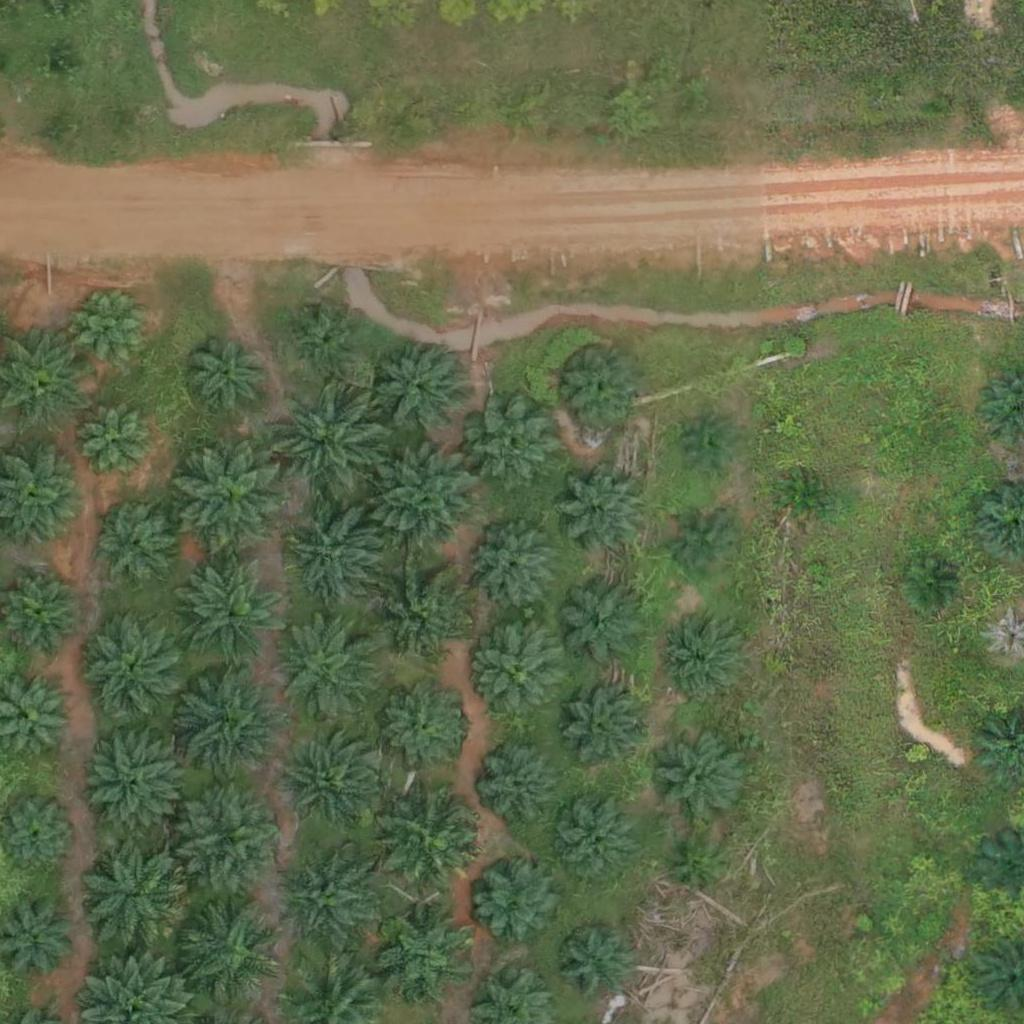Kelapa_Sawit: (274, 373, 399, 498), (176, 437, 289, 550), (181, 556, 294, 669), (175, 665, 288, 778), (175, 783, 287, 897), (78, 841, 190, 955), (289, 503, 389, 604), (279, 618, 379, 719), (279, 739, 379, 840), (377, 449, 477, 550), (369, 565, 469, 666), (383, 788, 483, 889), (378, 909, 478, 1010), (85, 615, 185, 715), (88, 729, 188, 829), (282, 850, 382, 950), (178, 901, 278, 1001), (475, 627, 563, 716), (378, 347, 466, 435), (379, 682, 467, 770), (475, 739, 563, 827), (474, 859, 562, 947), (658, 614, 746, 702), (185, 333, 272, 422), (73, 286, 160, 374), (469, 401, 556, 489), (471, 526, 558, 614), (559, 468, 646, 556), (557, 581, 644, 669), (557, 683, 644, 771), (551, 801, 638, 889), (658, 733, 745, 821), (564, 347, 639, 423), (1, 577, 76, 653), (103, 510, 178, 586), (78, 403, 153, 478), (560, 926, 635, 1001), (675, 513, 737, 576), (298, 310, 360, 373), (776, 467, 838, 529), (671, 843, 721, 894), (685, 423, 735, 473), (906, 562, 956, 612)
